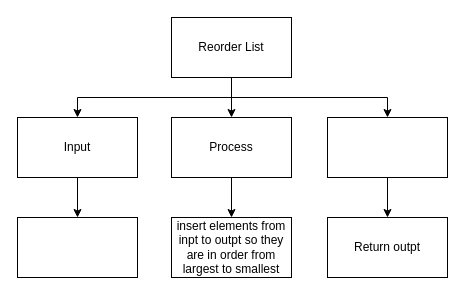
The diagram is 465 pixels wide and 295 high, and some of its shapes have lost their labels. Each missing label, with the box of its shape:
Get inpt: (16, 216, 138, 278)
output: (326, 116, 448, 178)
